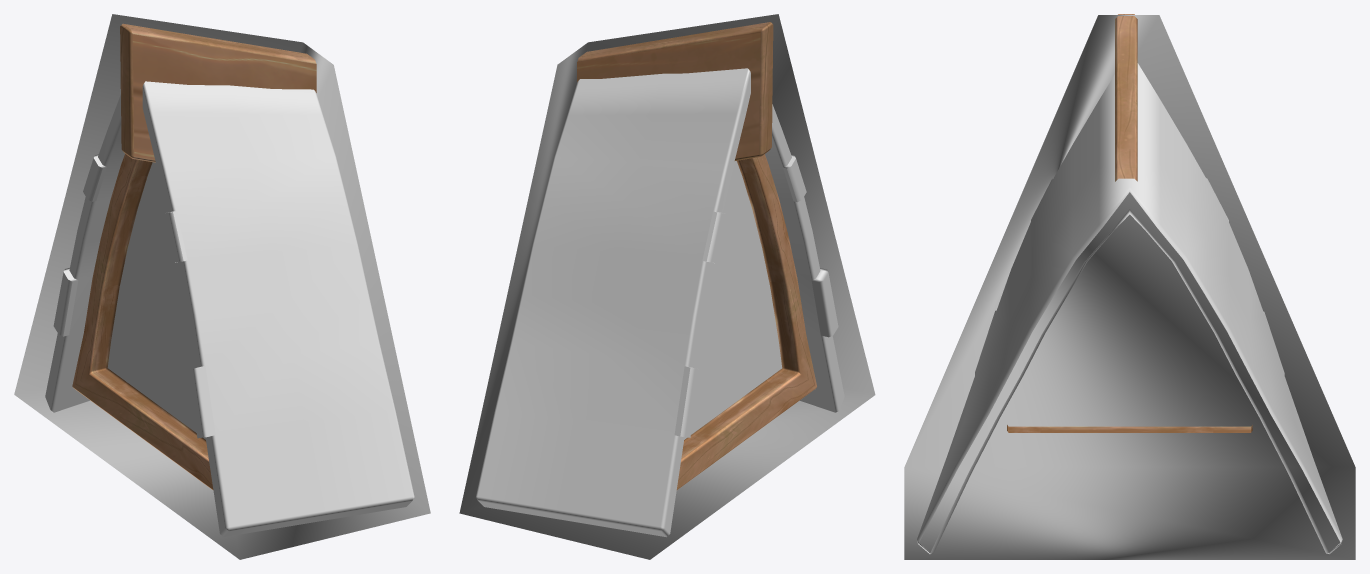
Rendered from SM_FacadePart_03.gltf.
3 renders of one model, left to right at view 1: azimuth 30°, elevation 25°; view 2: azimuth 150°, elevation 25°; view 3: azimuth 270°, elevation 25°, orthographic.
Parts seen in each view (by area): view 1: SM_FacadePart_03_LOD0, SM_FacadePart_03_ConvexHulls; view 2: SM_FacadePart_03_LOD0, SM_FacadePart_03_ConvexHulls; view 3: SM_FacadePart_03_ConvexHulls, SM_FacadePart_03_LOD0.
Part boxes in pixels (<box>): SM_FacadePart_03_LOD0: <box>45,23,414,537</box>; SM_FacadePart_03_ConvexHulls: <box>14,14,430,559</box>; SM_FacadePart_03_LOD0: <box>476,22,844,537</box>; SM_FacadePart_03_ConvexHulls: <box>459,14,875,559</box>; SM_FacadePart_03_ConvexHulls: <box>904,15,1355,559</box>; SM_FacadePart_03_LOD0: <box>917,14,1342,554</box>.
Size of what is drawn, in the model's own units: 1.98 by 4.38 by 3.96.
Materials: 3 (1 with a texture image).
